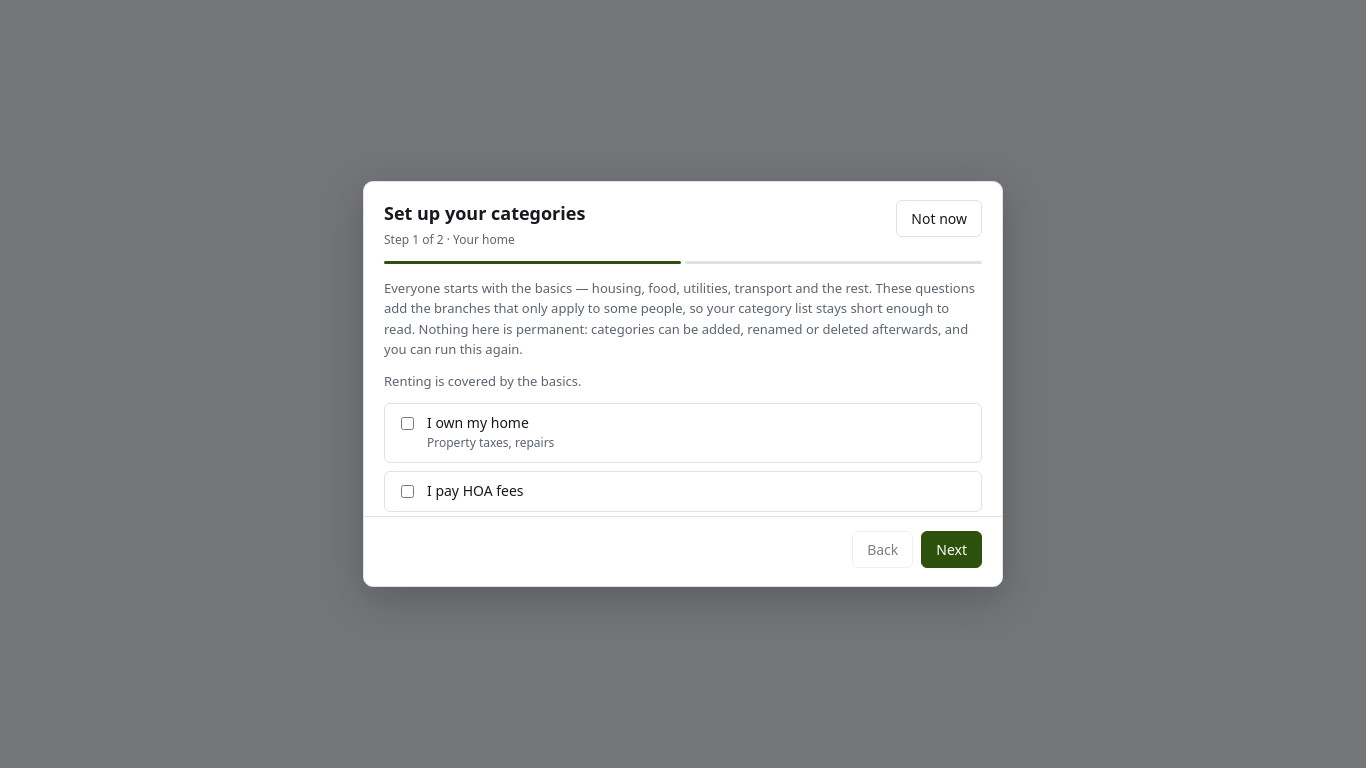
Test: when setup has never been run › keeps answers when stepping between groups
This screenshot has width=1366, height=768.
Expected: the dialog is shown, x1=363 y1=181 x2=1003 y2=587
Click the checkbox labelled "I own my home Property taxes, repairs".
click(408, 424)  # box x1=401 y1=417 x2=414 y2=430
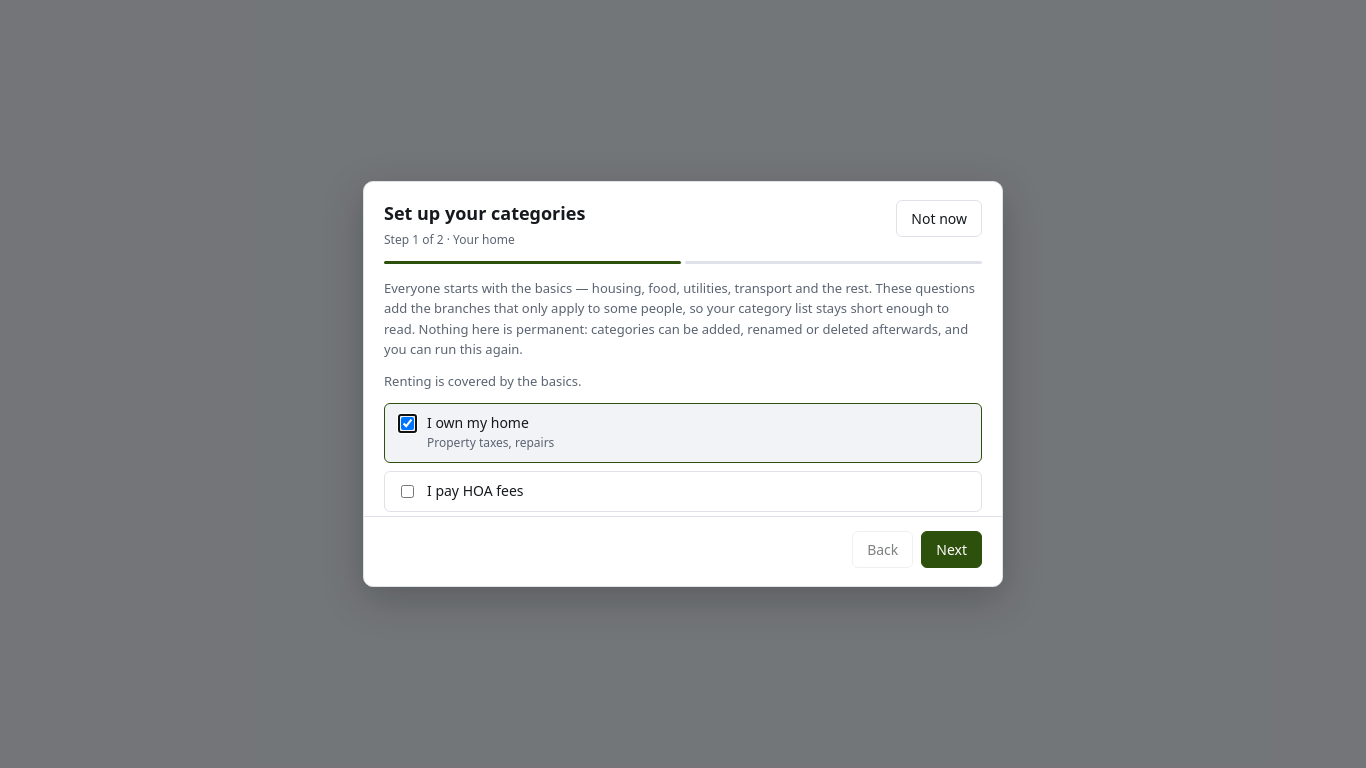
Click the button "Next".
click(952, 549)  # box x1=921 y1=531 x2=982 y2=568
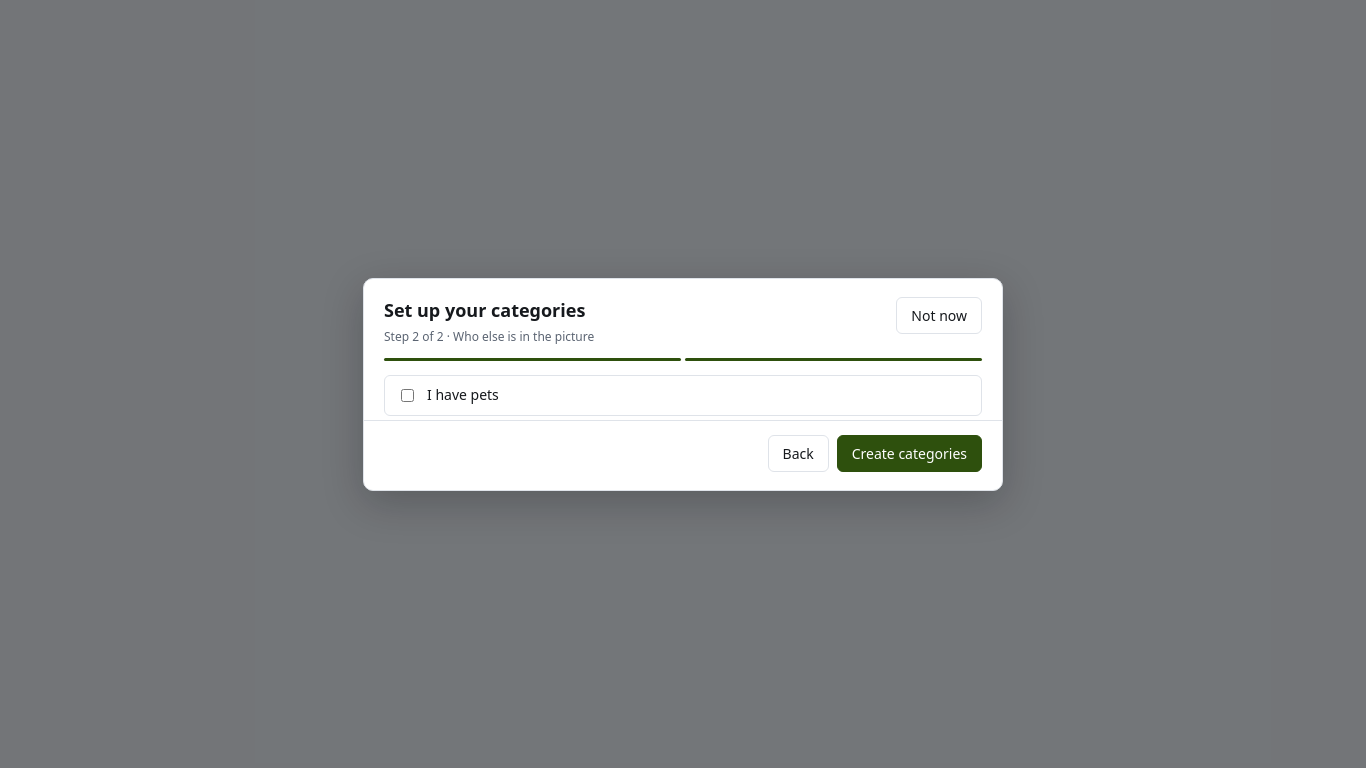
Click the button "Back".
click(798, 453)  # box x1=768 y1=434 x2=829 y2=472
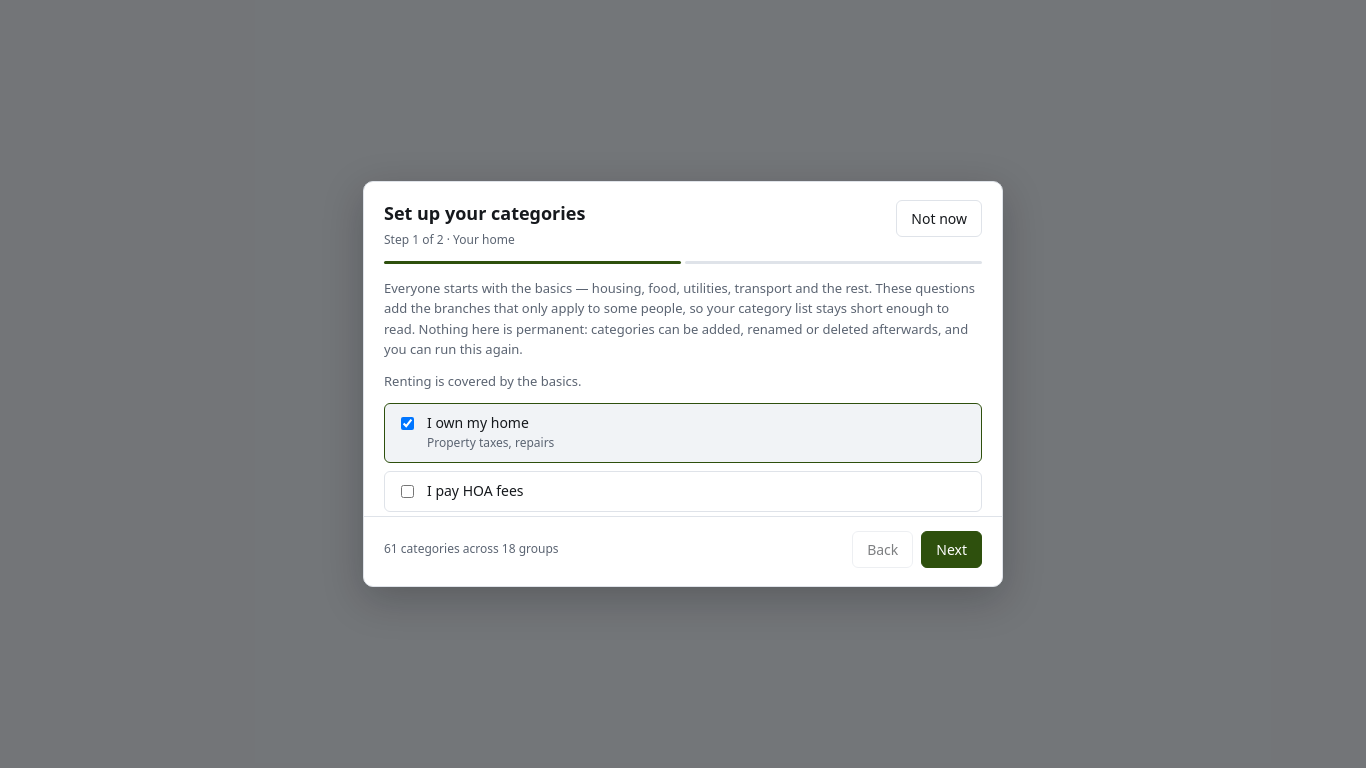
Result: the checkbox labelled "I own my home Property taxes, repairs" is checked at x1=401 y1=417 x2=414 y2=430
